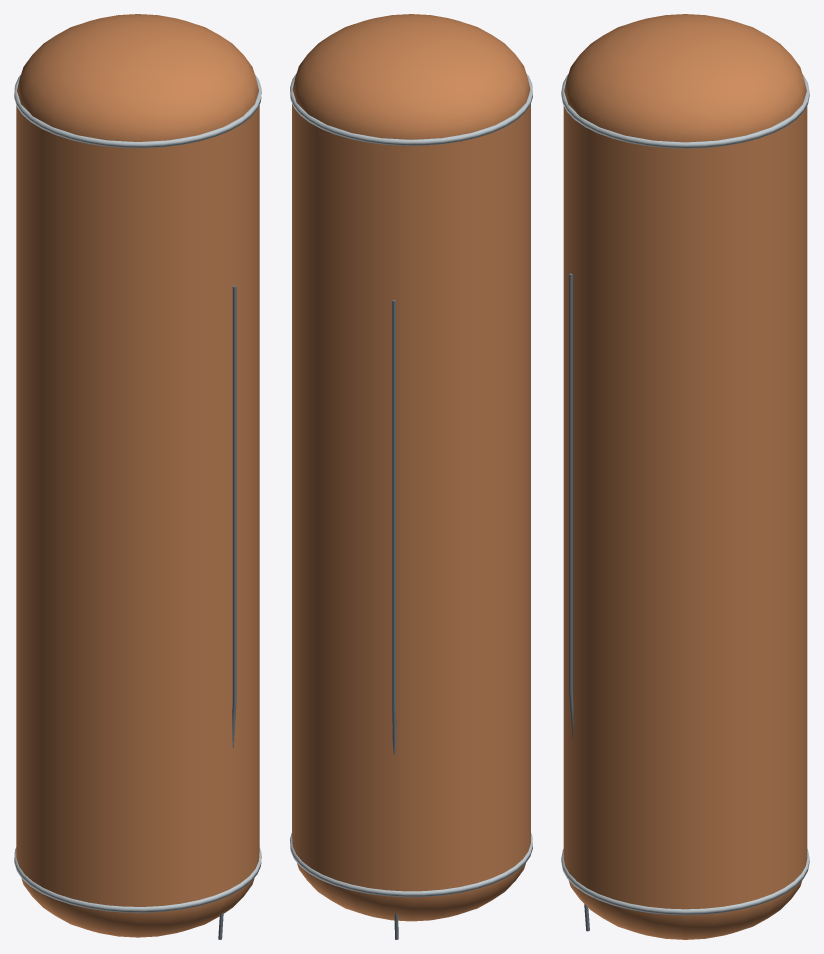
The model's file is falcon9_stage_1_rp1_vessel.glb.
3 views of the same model, side by side, from view 1: azimuth 30°, elevation 25°; view 2: azimuth 150°, elevation 25°; view 3: azimuth 270°, elevation 25° (orthographic). The views are drawn at different scales.
Visible parts, largest first — view 1: falcon9_stage_1_rp1_vessel.mesh_Cutaway_propellant, falcon9_stage_1_rp1_vessel.mesh_Satin_aluminum, falcon9_stage_1_rp1_vessel.mesh_Machined_steel; view 2: falcon9_stage_1_rp1_vessel.mesh_Cutaway_propellant, falcon9_stage_1_rp1_vessel.mesh_Satin_aluminum, falcon9_stage_1_rp1_vessel.mesh_Machined_steel; view 3: falcon9_stage_1_rp1_vessel.mesh_Cutaway_propellant, falcon9_stage_1_rp1_vessel.mesh_Satin_aluminum, falcon9_stage_1_rp1_vessel.mesh_Machined_steel.
Boxes of the visible parts, bbox=[...] form: falcon9_stage_1_rp1_vessel.mesh_Cutaway_propellant: bbox=[16, 14, 259, 937]; falcon9_stage_1_rp1_vessel.mesh_Satin_aluminum: bbox=[14, 75, 261, 912]; falcon9_stage_1_rp1_vessel.mesh_Machined_steel: bbox=[218, 285, 236, 939]; falcon9_stage_1_rp1_vessel.mesh_Cutaway_propellant: bbox=[292, 14, 530, 921]; falcon9_stage_1_rp1_vessel.mesh_Satin_aluminum: bbox=[290, 73, 532, 897]; falcon9_stage_1_rp1_vessel.mesh_Machined_steel: bbox=[392, 300, 398, 939]; falcon9_stage_1_rp1_vessel.mesh_Cutaway_propellant: bbox=[563, 14, 807, 939]; falcon9_stage_1_rp1_vessel.mesh_Satin_aluminum: bbox=[561, 74, 809, 915]; falcon9_stage_1_rp1_vessel.mesh_Machined_steel: bbox=[569, 273, 589, 931].
Bounding box in the file's own units: 3.52 × 13.9 × 3.52.
